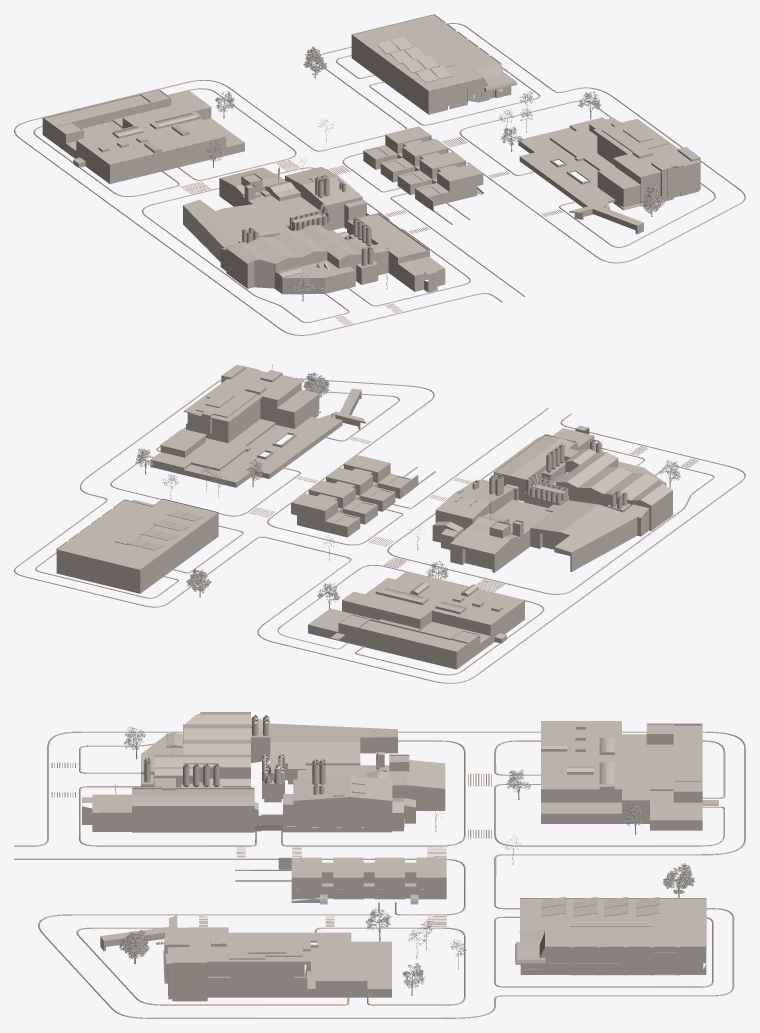
Rendered from exterior.glb.
3 renders of one model, top to bottom at view 1: azimuth 30°, elevation 25°; view 2: azimuth 150°, elevation 25°; view 3: azimuth 270°, elevation 25°, orthographic. The views are drawn at different scales.
Visible parts, largest first — view 1: B1, Road#2, Material__5#2; view 2: B1, Road#2, Material__5#2; view 3: B1, Road#2, Material__5#2.
Part boxes in pixels (x1,y1,x2,y2): B1: (42, 14, 700, 294); Road#2: (14, 23, 745, 335); Material__5#2: (206, 46, 664, 301); B1: (56, 364, 672, 669); Road#2: (14, 378, 745, 683); Material__5#2: (135, 372, 680, 608); B1: (82, 712, 718, 1001); Road#2: (14, 731, 745, 1018); Material__5#2: (113, 726, 695, 995).
Size of the model in its own units: 6.55 by 0.5874 by 7.06.
